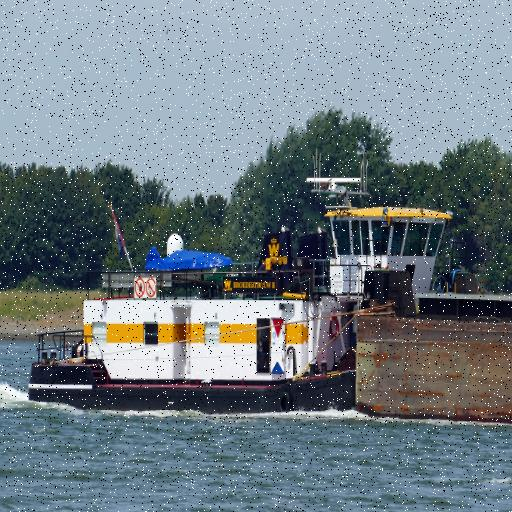tugboat: (25, 174, 489, 425)
